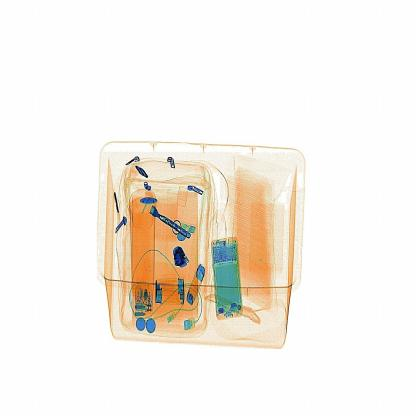scissors: (166, 235, 194, 276)
